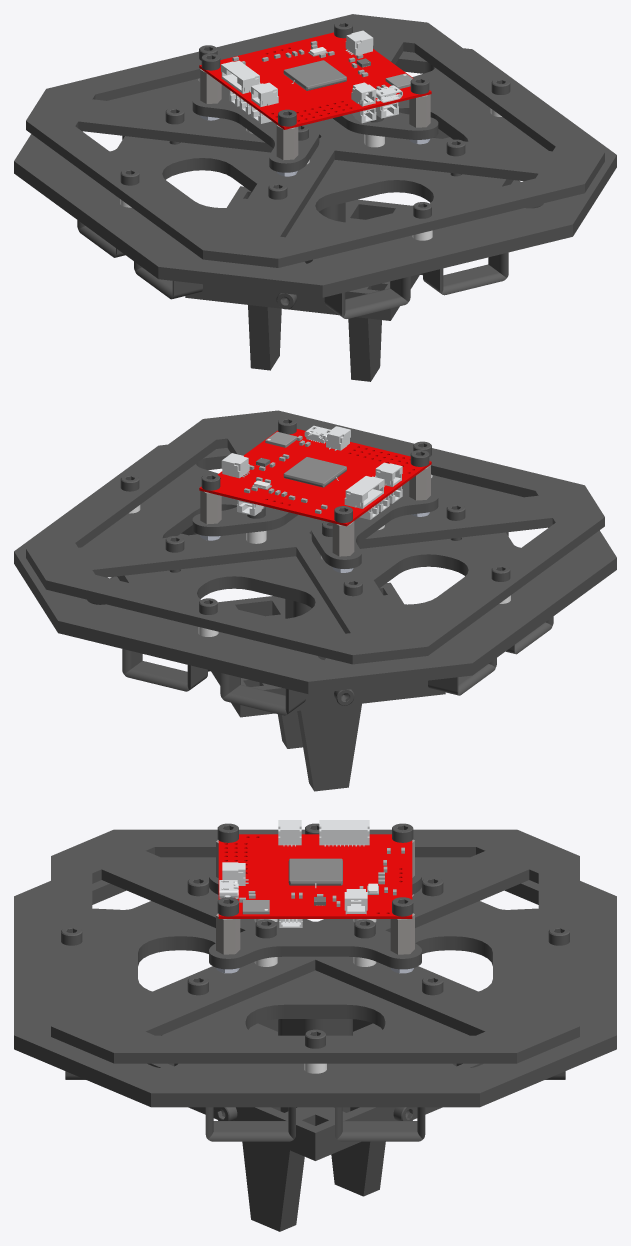
The model's file is main_body.dae.
3 renders of one model, top to bottom at view 1: azimuth 30°, elevation 25°; view 2: azimuth 150°, elevation 25°; view 3: azimuth 270°, elevation 25°, orthographic. The views are drawn at different scales.
Visible parts, largest first — view 1: Shape_IndexedFaceSet; view 2: Shape_IndexedFaceSet; view 3: Shape_IndexedFaceSet.
Part boxes in pixels (bbox=[...]): Shape_IndexedFaceSet: bbox=[14, 14, 616, 381]; Shape_IndexedFaceSet: bbox=[14, 410, 616, 791]; Shape_IndexedFaceSet: bbox=[14, 820, 616, 1231].
Size of the model in its own units: 0.1556 by 0.1556 by 0.0983.
